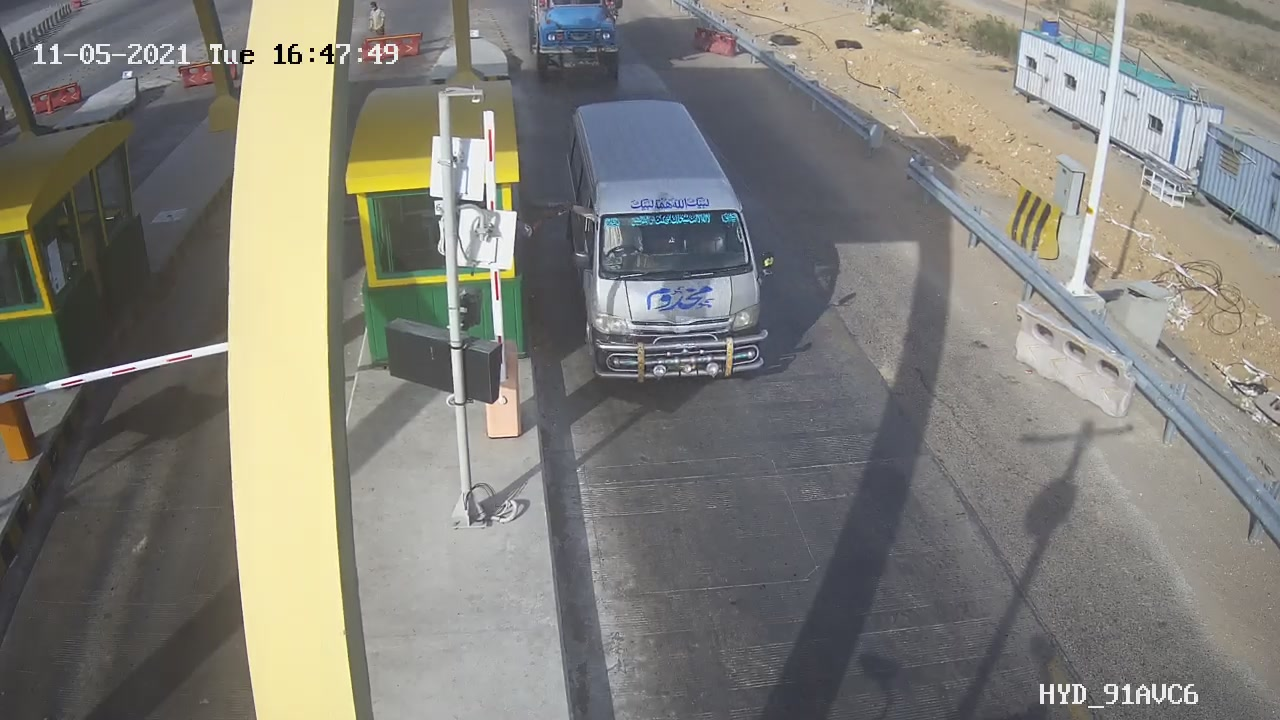F2: (542, 87, 791, 401)
